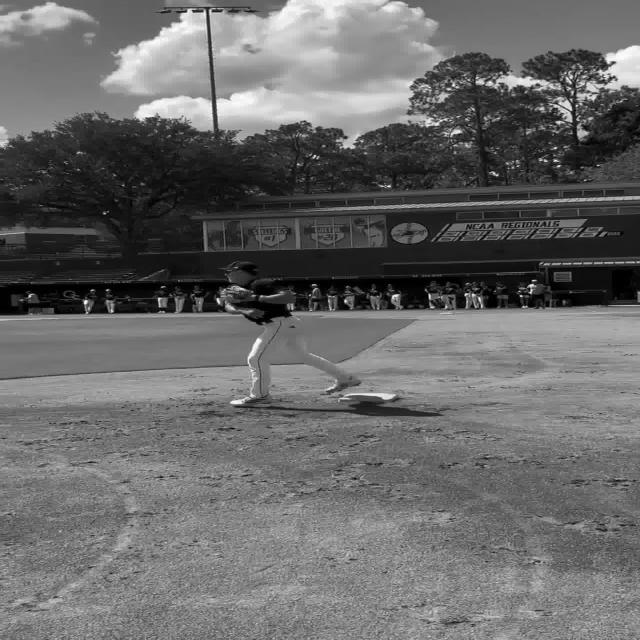base: (338, 392, 400, 406)
baseball_glove: (224, 285, 253, 304)
shoe: (327, 375, 362, 394), (229, 395, 273, 408)
